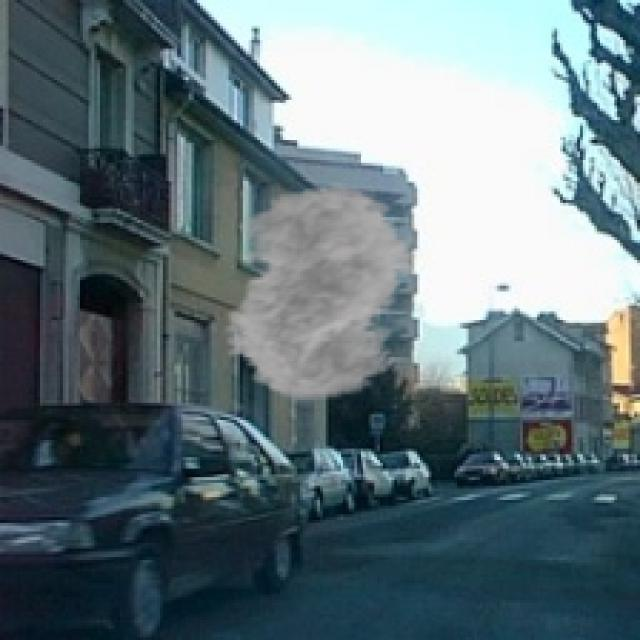Smoke: (200, 183, 434, 403)
